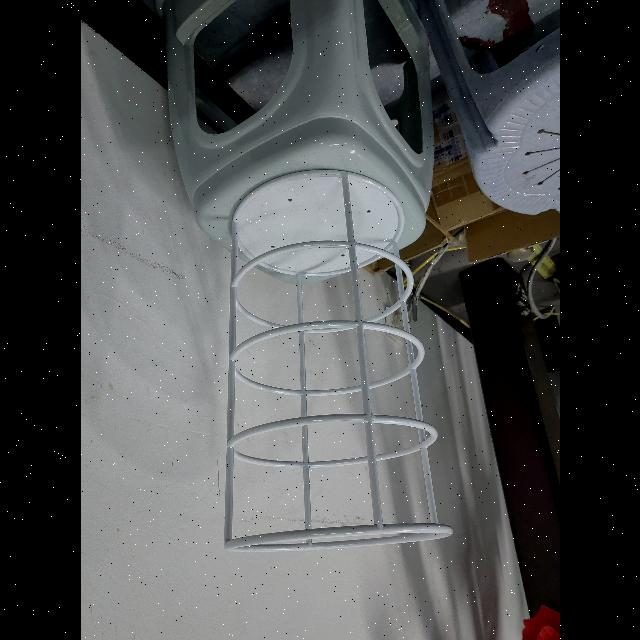S: (215, 165, 459, 560)
